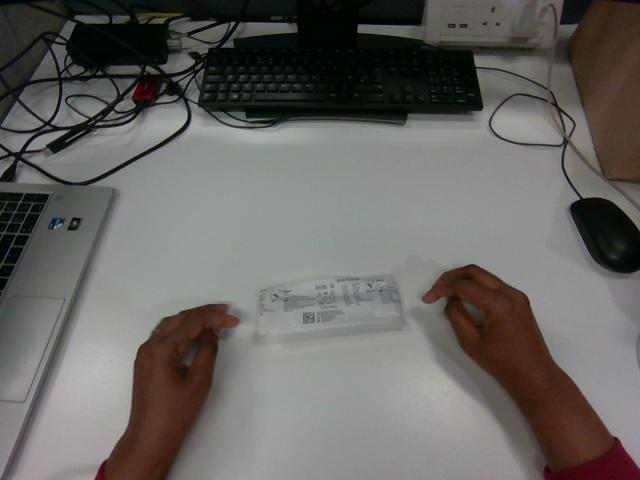syringe: (259, 275, 401, 334)
